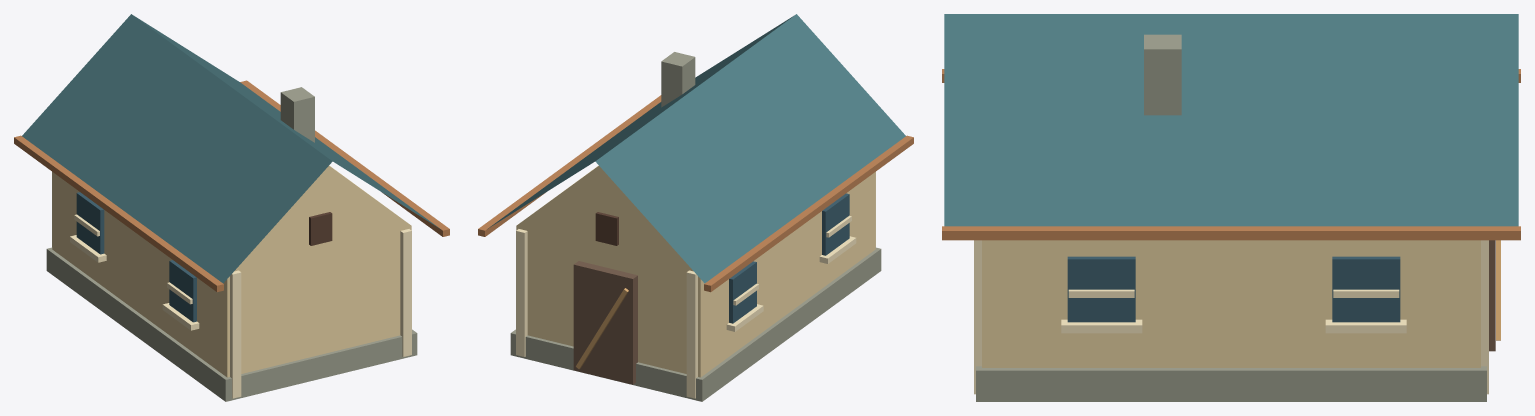
File: Maison.fbx
3 views of the same model, side by side, from view 1: azimuth 30°, elevation 25°; view 2: azimuth 150°, elevation 25°; view 3: azimuth 270°, elevation 25° (orthographic). The views are drawn at different scales.
Parts seen in each view (by area): view 1: Maison; view 2: Maison; view 3: Maison.
Boxes of the visible parts, x1,y1,x2,y2 form: Maison: (14,14,449,401); Maison: (478,14,913,401); Maison: (942,14,1520,401).
Size of the model in its own units: 530 by 492 by 800.
1 material, 1 textured.
